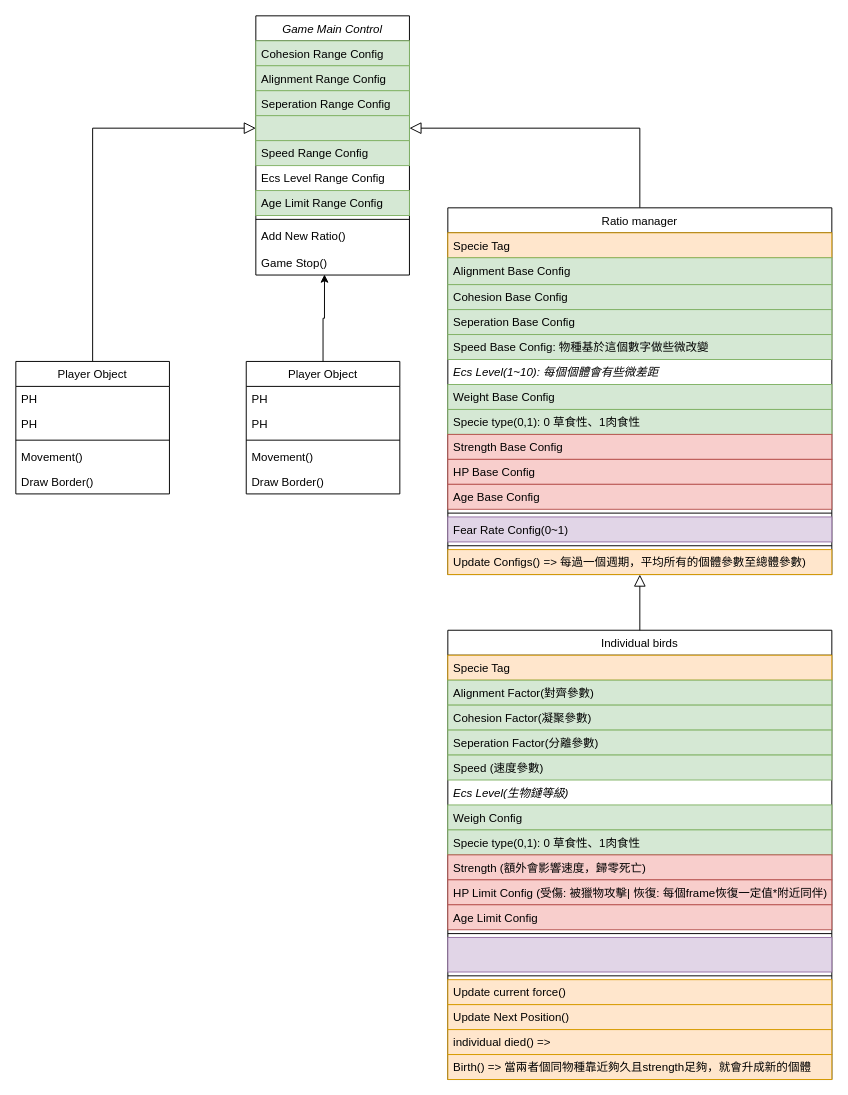
The diagram is 848 pixels wide and 1095 high, and some of its shapes have lost their labels. The centre of each missing label's shape, as x and y in pixels:
"Fear Rate(懼怕參數: 根據參數隨機增加其他基本參數 | 增加獵物反方向 的逃跑向量)" belongs at [639,954].
"Strength Range Config" belongs at [332,128].
